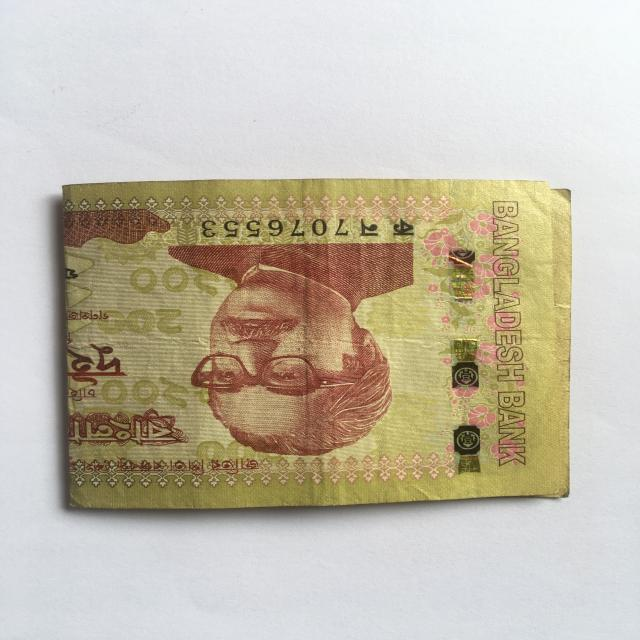Taka: (51, 175, 578, 508)
